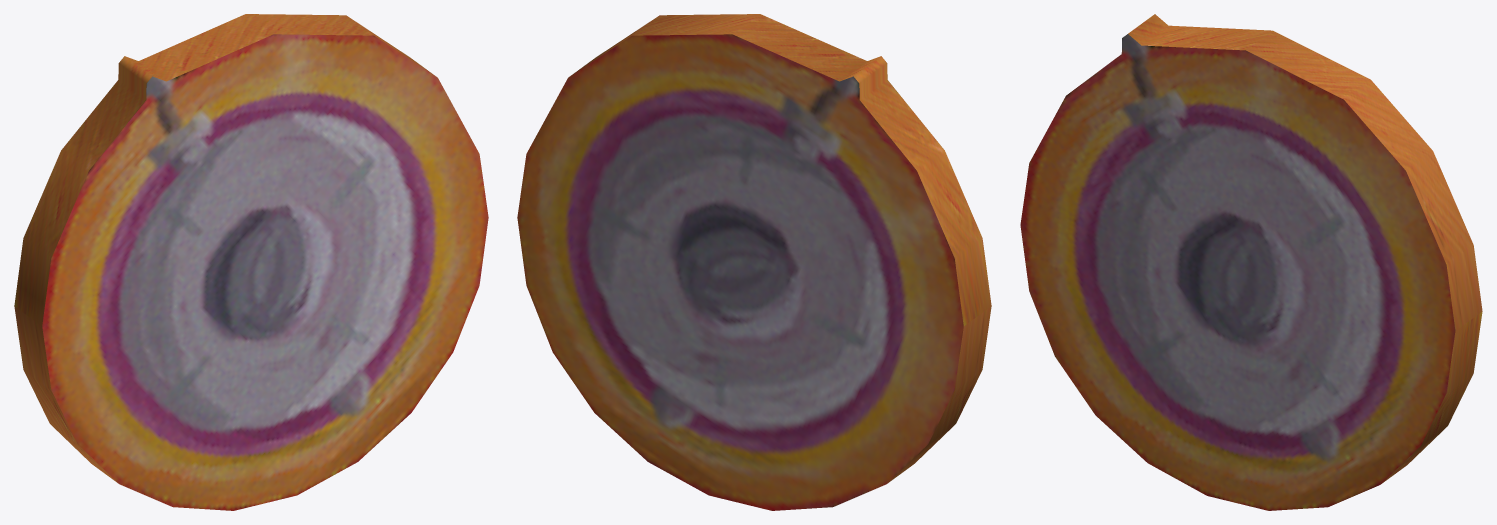
File: broqueis.FBX
3 views of the same model, side by side, from view 1: azimuth 30°, elevation 25°; view 2: azimuth 150°, elevation 25°; view 3: azimuth 330°, elevation 25° (orthographic). The views are drawn at different scales.
Parts seen in each view (by area): view 1: Cylinder001; view 2: Cylinder001; view 3: Cylinder001.
Boxes of the visible parts, x1,y1,x2,y2 form: Cylinder001: [14, 14, 488, 510]; Cylinder001: [517, 14, 991, 510]; Cylinder001: [1020, 14, 1482, 510].
Bounding box in the file's own units: 1.01 × 1.01 × 0.1094.
Materials: 1 (1 with a texture image).
